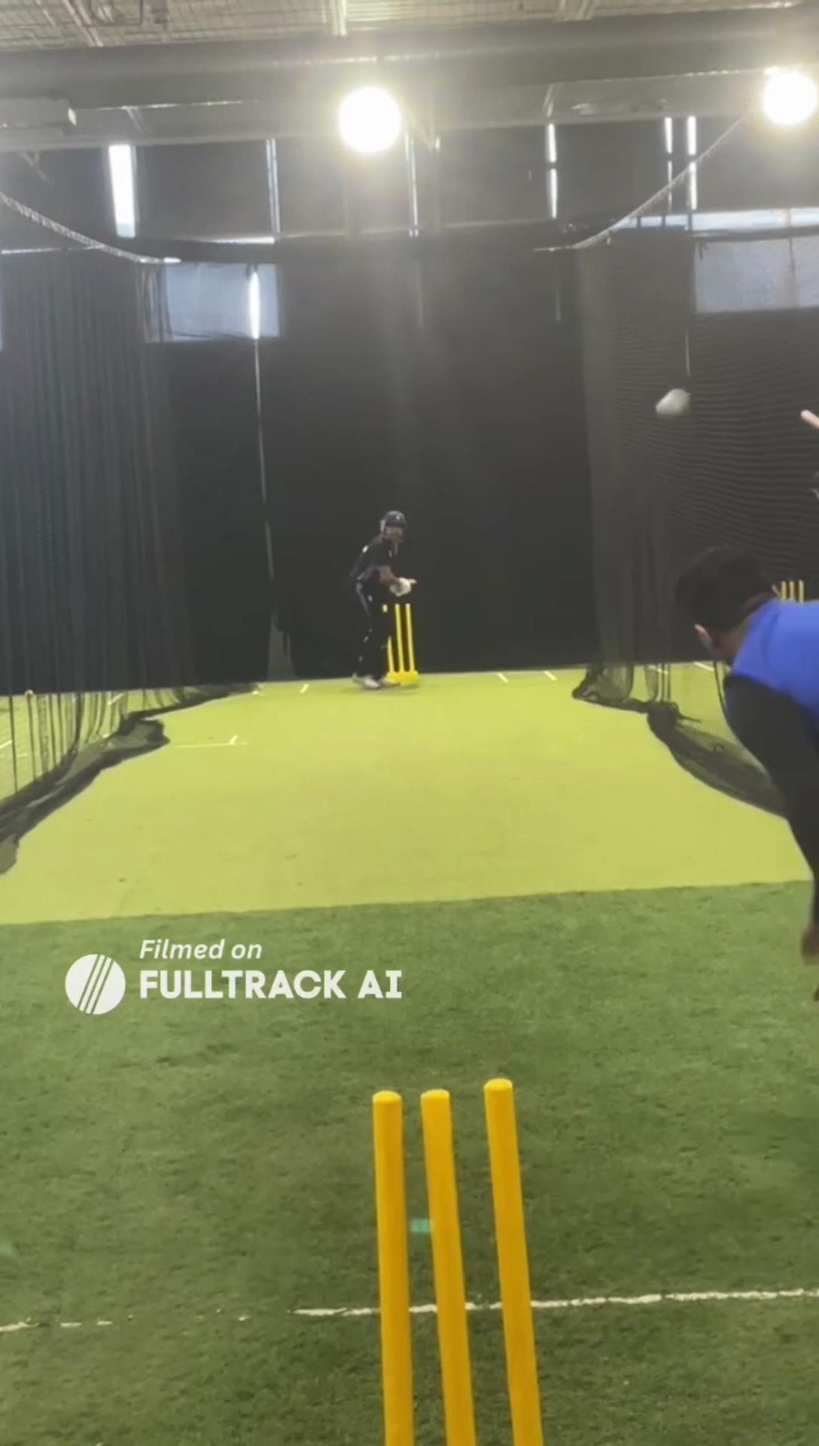ball: (652, 386, 693, 421)
